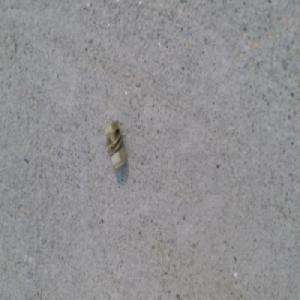BoltNutSet: (103, 122, 126, 169)
